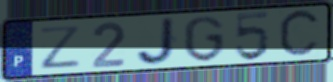2: (90, 20, 127, 70)
5: (233, 9, 271, 63)
C: (277, 7, 323, 62)
G: (182, 14, 226, 64)
J: (134, 16, 179, 67)
Z: (37, 24, 84, 71)
